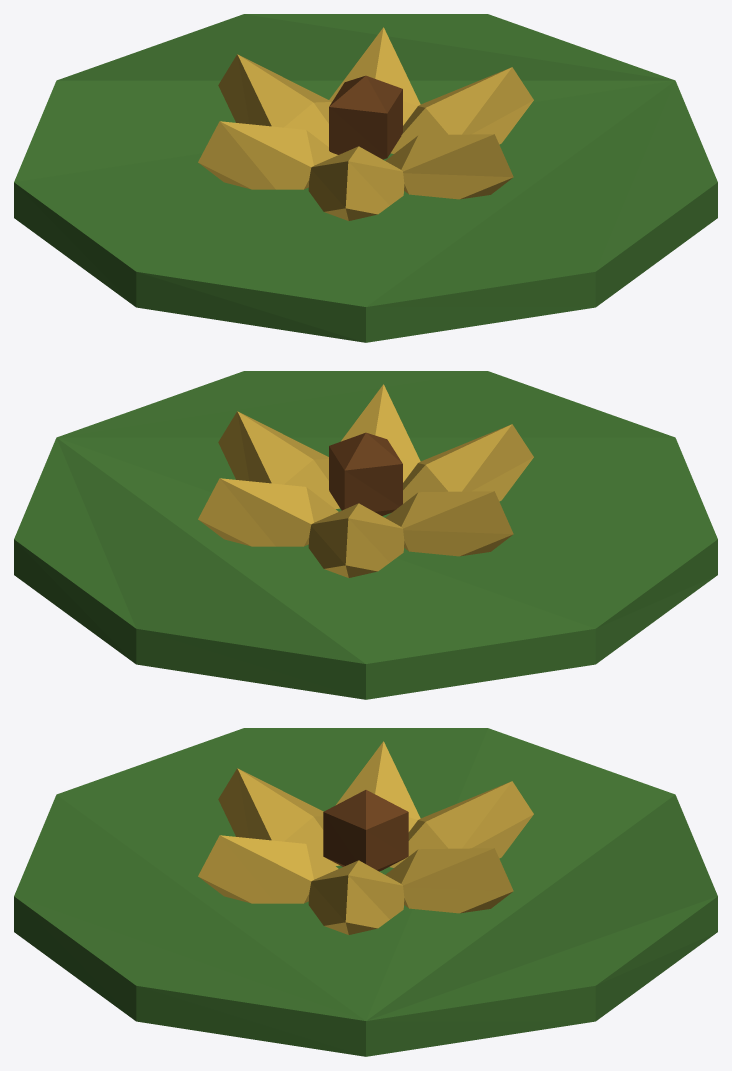
The model's file is lily_pad_2.glb.
3 renders of one model, top to bottom at view 1: azimuth 30°, elevation 25°; view 2: azimuth 150°, elevation 25°; view 3: azimuth 270°, elevation 25°, orthographic.
Visible parts, largest first — view 1: lily_pad_2; view 2: lily_pad_2; view 3: lily_pad_2.
Boxes of the visible parts, <box> form: lily_pad_2: <box>14,14,717,342</box>; lily_pad_2: <box>14,371,717,699</box>; lily_pad_2: <box>14,728,717,1056</box>.
Size of the model in its own units: 0.1406 by 0.0319 by 0.1427.
